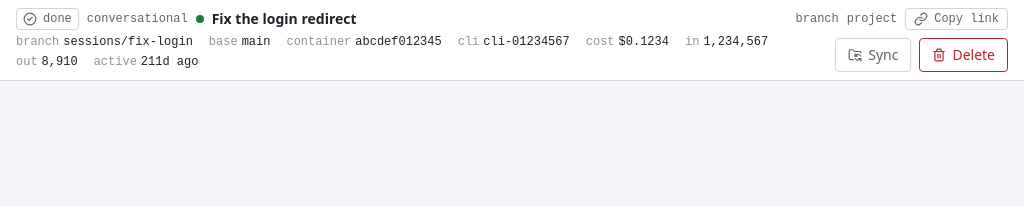
SessionHeader › confirms a delete before sending it
Click the button "Delete" at (964, 55), box [919, 38, 1008, 72]
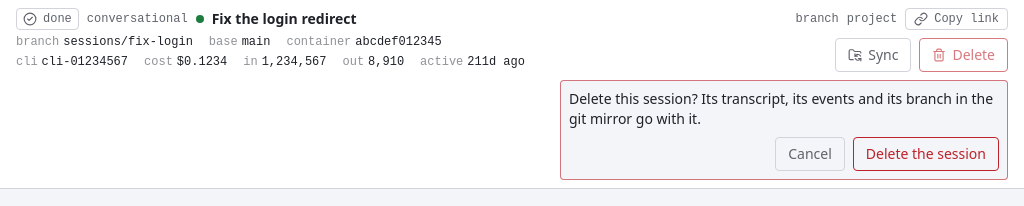
Result: the button "Delete the session" is shown at [853, 137, 999, 171]
